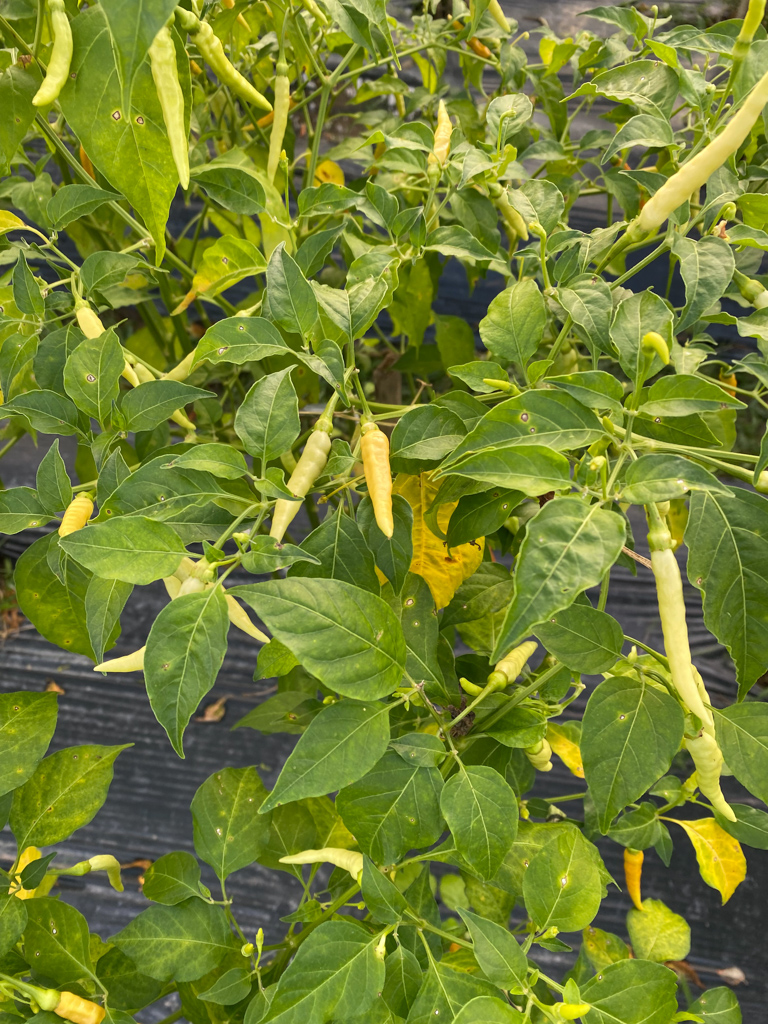frog-eye leafspot: (105, 101, 148, 135), (516, 408, 538, 435), (214, 823, 236, 843), (557, 871, 574, 894), (43, 917, 60, 939), (490, 492, 509, 511), (27, 587, 45, 605), (280, 709, 301, 724), (42, 801, 58, 818), (402, 595, 415, 614), (83, 370, 99, 385), (7, 701, 23, 715), (615, 706, 628, 723), (215, 342, 231, 354), (519, 857, 530, 873), (30, 948, 43, 960), (694, 573, 705, 586), (69, 751, 82, 761), (218, 255, 229, 266), (652, 416, 665, 424), (234, 324, 247, 331), (64, 637, 74, 646), (244, 795, 252, 804)
